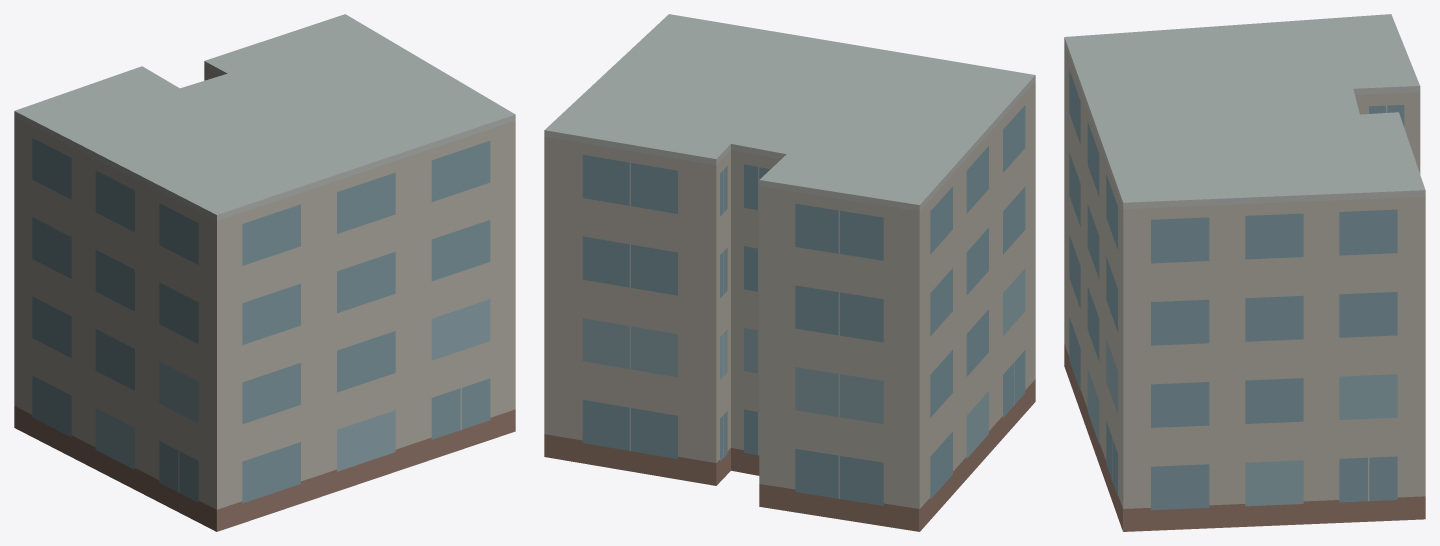
Rendered from survey-upis-32577182.glb.
The picture shows the model from 3 angles, left to right: view 1: azimuth 30°, elevation 25°; view 2: azimuth 150°, elevation 25°; view 3: azimuth 270°, elevation 25°; orthographic projection. The views are drawn at different scales.
Visible parts, largest first — view 1: survey-upis-32577182.tmp; view 2: survey-upis-32577182.tmp; view 3: survey-upis-32577182.tmp.
Part boxes in pixels (bbox=[...]): survey-upis-32577182.tmp: bbox=[14, 14, 515, 531]; survey-upis-32577182.tmp: bbox=[544, 14, 1035, 531]; survey-upis-32577182.tmp: bbox=[1064, 14, 1425, 531].
Bounding box in the file's own units: 15.75 × 12.8 × 12.74.
